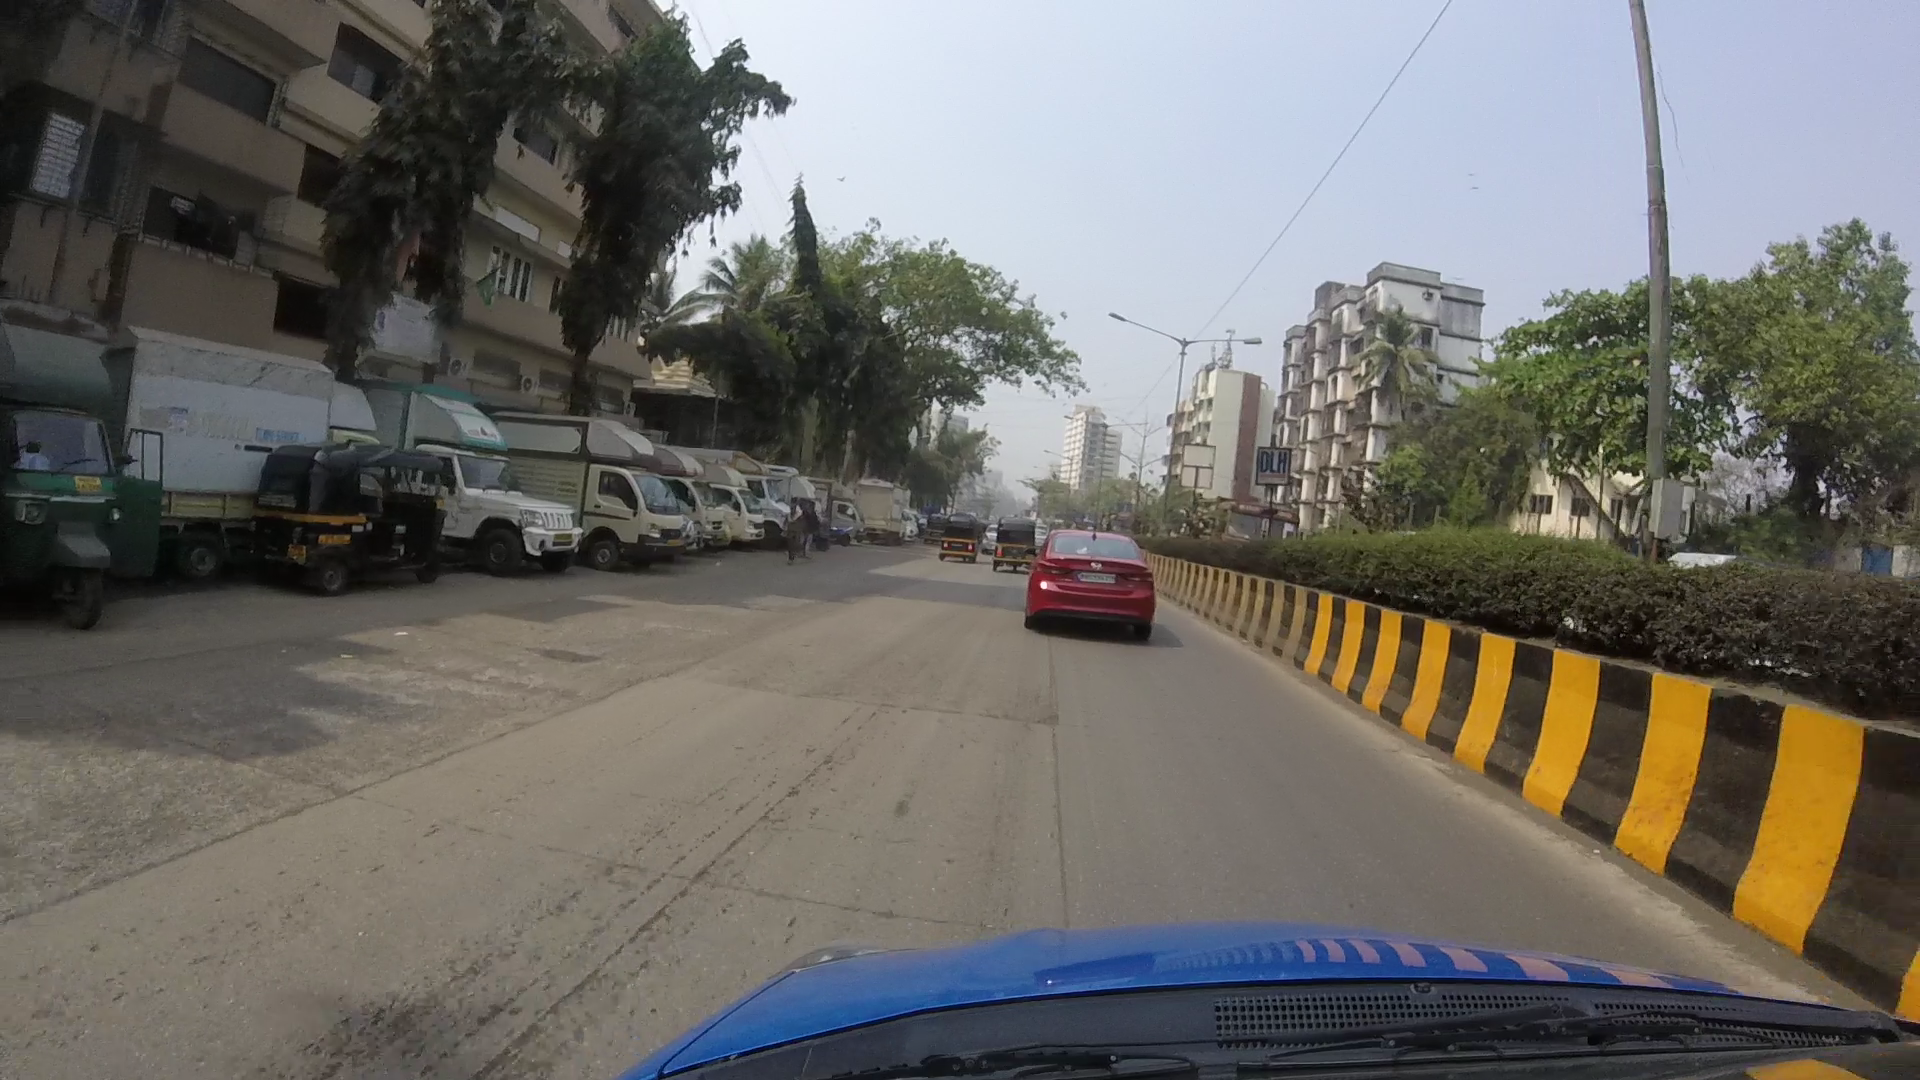car: (1015, 520, 1164, 642)
rickshaw: (261, 431, 450, 588), (930, 501, 985, 585), (988, 504, 1038, 580)
truck: (3, 318, 164, 630), (117, 315, 361, 520), (378, 376, 582, 574), (498, 400, 696, 558)
